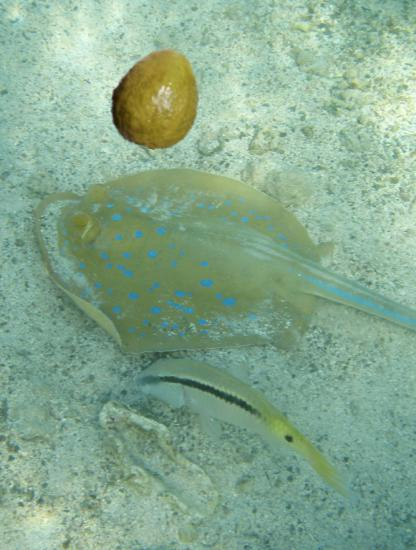Guava: (104, 46, 207, 149)
